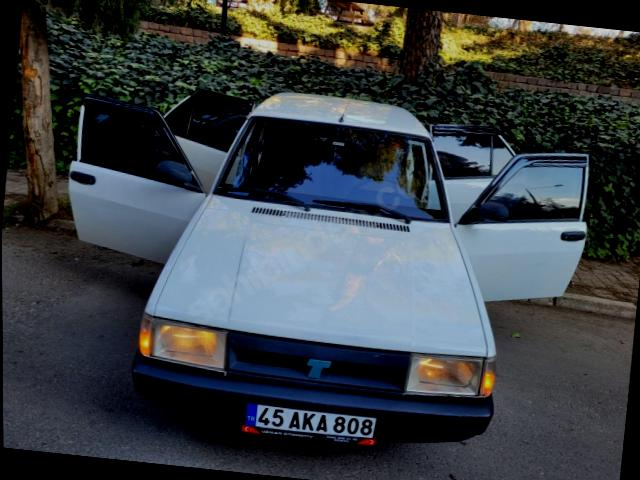plaka: (243, 402, 378, 444)
